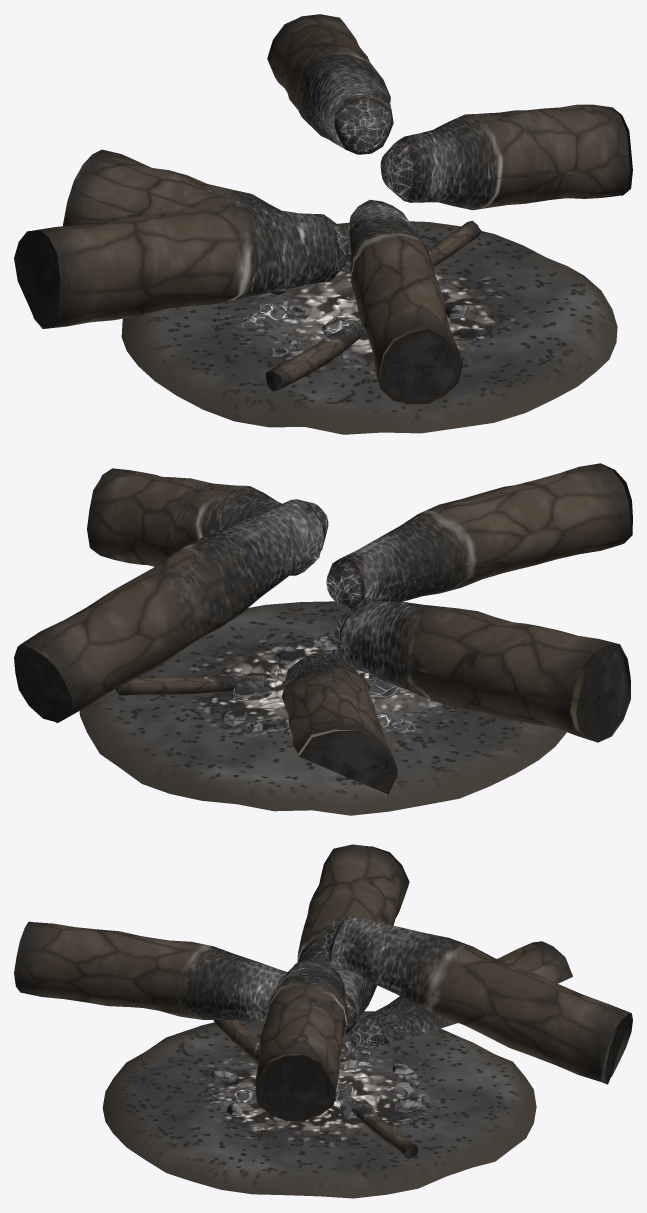
Rendered from campfire.glb.
3 views of the same model, one above another, from view 1: azimuth 30°, elevation 25°; view 2: azimuth 150°, elevation 25°; view 3: azimuth 270°, elevation 25° (orthographic). The views are drawn at different scales.
Parts seen in each view (by area): view 1: Logs, Bed; view 2: Logs, Bed; view 3: Logs, Bed.
Boxes of the visible parts, x1,y1,x2,y2 form: Logs: (14,14,632,404); Bed: (121,221,617,434); Logs: (14,463,632,795); Bed: (79,601,566,815); Logs: (14,844,632,1158); Bed: (102,1011,536,1198).
Size of the model in its own units: 1.19 by 0.4675 by 1.34.
Materials: 1 (1 with a texture image).
